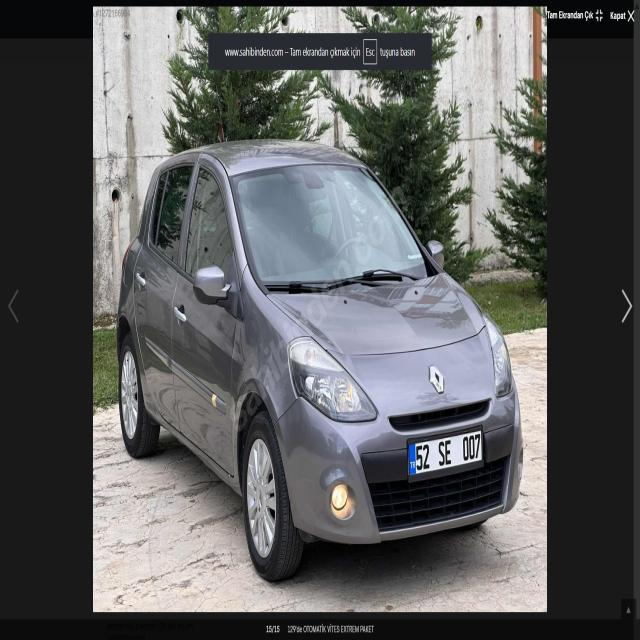renault: (423, 361, 451, 398)
